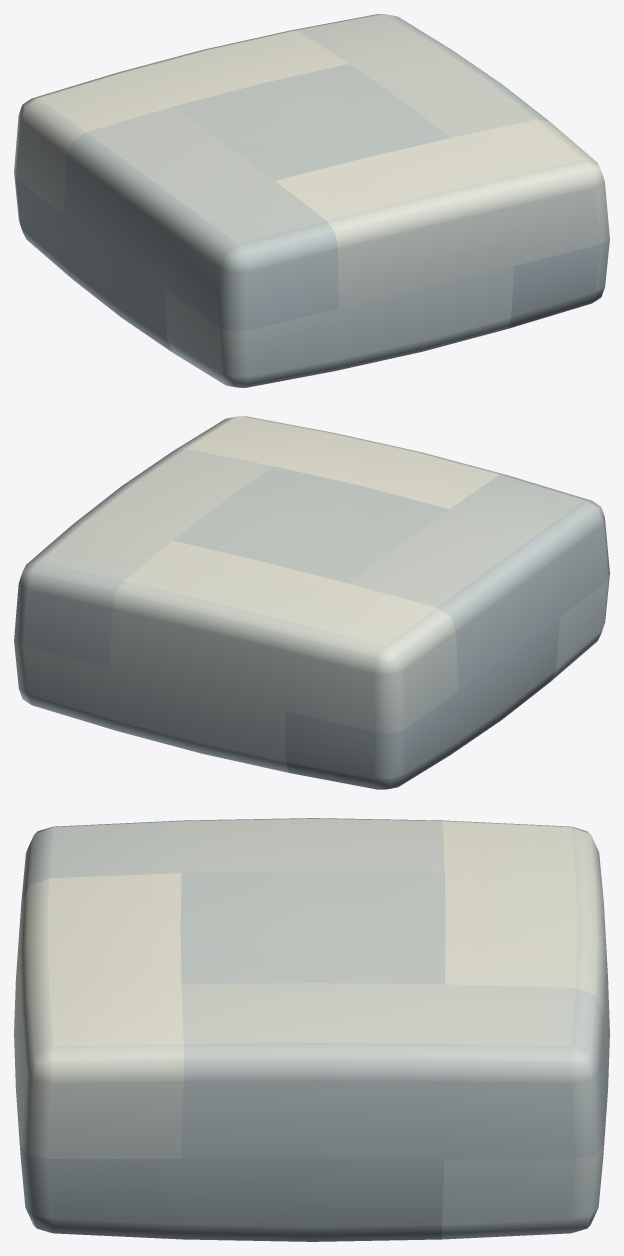
The model's file is Quartz_4x4_Slab.fbx.
3 renders of one model, top to bottom at view 1: azimuth 30°, elevation 25°; view 2: azimuth 150°, elevation 25°; view 3: azimuth 270°, elevation 25°, orthographic. The views are drawn at different scales.
Parts seen in each view (by area): view 1: Quartz_4x4_Slab_LOD0; view 2: Quartz_4x4_Slab_LOD0; view 3: Quartz_4x4_Slab_LOD0.
Part boxes in pixels (left/top/right/bottom): Quartz_4x4_Slab_LOD0: left=14, top=14, right=609, bottom=387; Quartz_4x4_Slab_LOD0: left=14, top=416, right=609, bottom=789; Quartz_4x4_Slab_LOD0: left=14, top=818, right=609, bottom=1241.
Size of what is drawn, in the model's own units: 1.08 by 0.4168 by 1.08.
